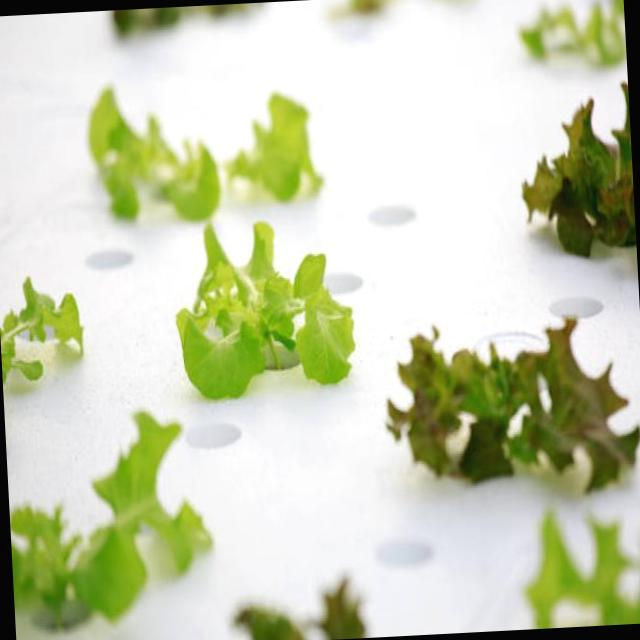Lettuce-Not-Ready-to-Harvest: (388, 318, 640, 490), (12, 412, 210, 627), (177, 222, 355, 397), (90, 89, 323, 222), (522, 84, 636, 255), (526, 513, 640, 629), (0, 278, 83, 382), (234, 578, 365, 640), (519, 0, 627, 66)
